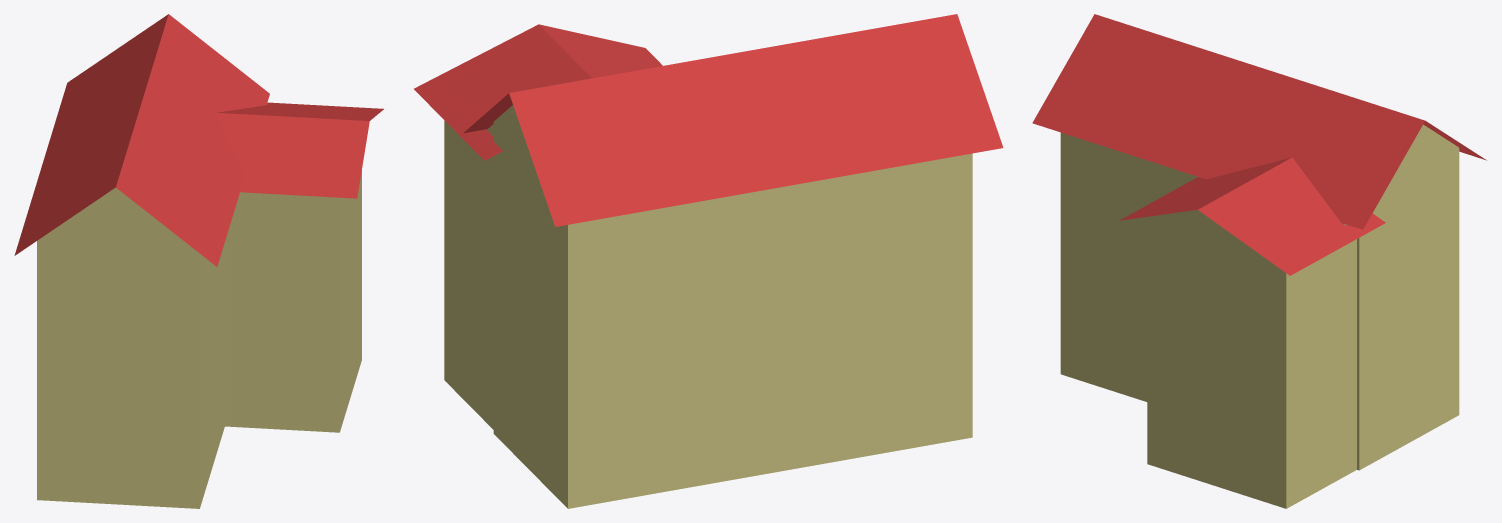
3 renders of one model, left to right at view 1: azimuth 30°, elevation 25°; view 2: azimuth 150°, elevation 25°; view 3: azimuth 270°, elevation 25°, orthographic. The views are drawn at different scales.
Visible parts, largest first — view 1: group_5, group_3, group_9, group_7, group_4, group_8; view 2: group_5, group_3, group_7, group_9, group_4, group_8; view 3: group_5, group_9, group_3, group_7, group_4, group_8.
Part boxes in pixels (x1=…): group_5: x1=37, y1=103, x2=267, y2=508; group_3: x1=14, y1=14, x2=269, y2=266; group_9: x1=245, y1=170, x2=361, y2=432; group_7: x1=216, y1=102, x2=383, y2=198; group_4: x1=15, y1=15, x2=269, y2=266; group_8: x1=240, y1=103, x2=380, y2=198; group_5: x1=487, y1=105, x2=972, y2=508; group_3: x1=464, y1=14, x2=1003, y2=226; group_7: x1=414, y1=24, x2=648, y2=160; group_9: x1=444, y1=120, x2=487, y2=423; group_4: x1=464, y1=15, x2=1000, y2=225; group_8: x1=415, y1=24, x2=662, y2=159; group_5: x1=1060, y1=124, x2=1459, y2=476; group_9: x1=1147, y1=210, x2=1344, y2=508; group_3: x1=1032, y1=14, x2=1486, y2=229; group_7: x1=1120, y1=157, x2=1385, y2=275; group_4: x1=1032, y1=14, x2=1482, y2=229; group_8: x1=1119, y1=177, x2=1381, y2=274.
Bounding box in the file's own units: 18.76 × 16.86 × 13.37.
